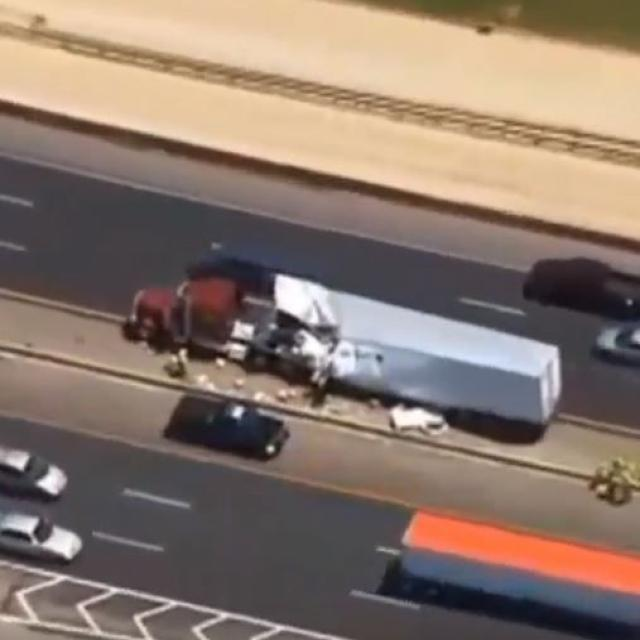traffic_incident: (114, 251, 572, 446)
